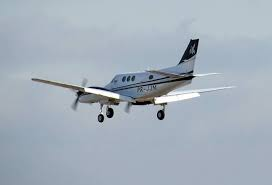plane: (30, 37, 237, 121)
